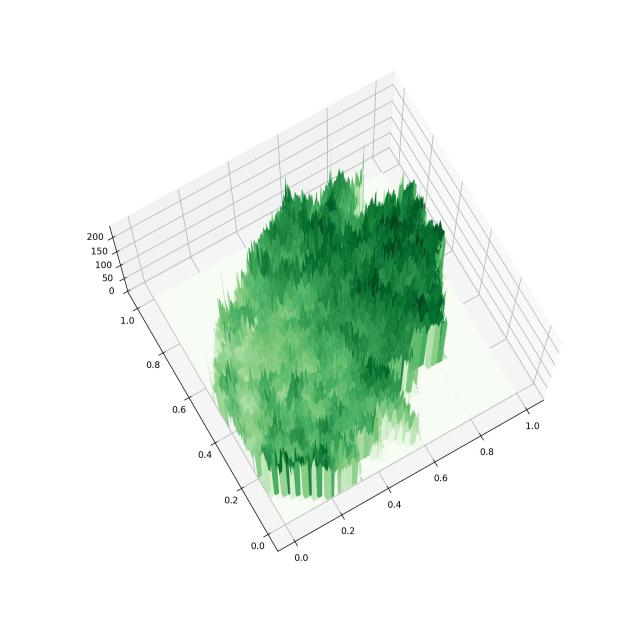fir: (62, 52, 602, 606)
